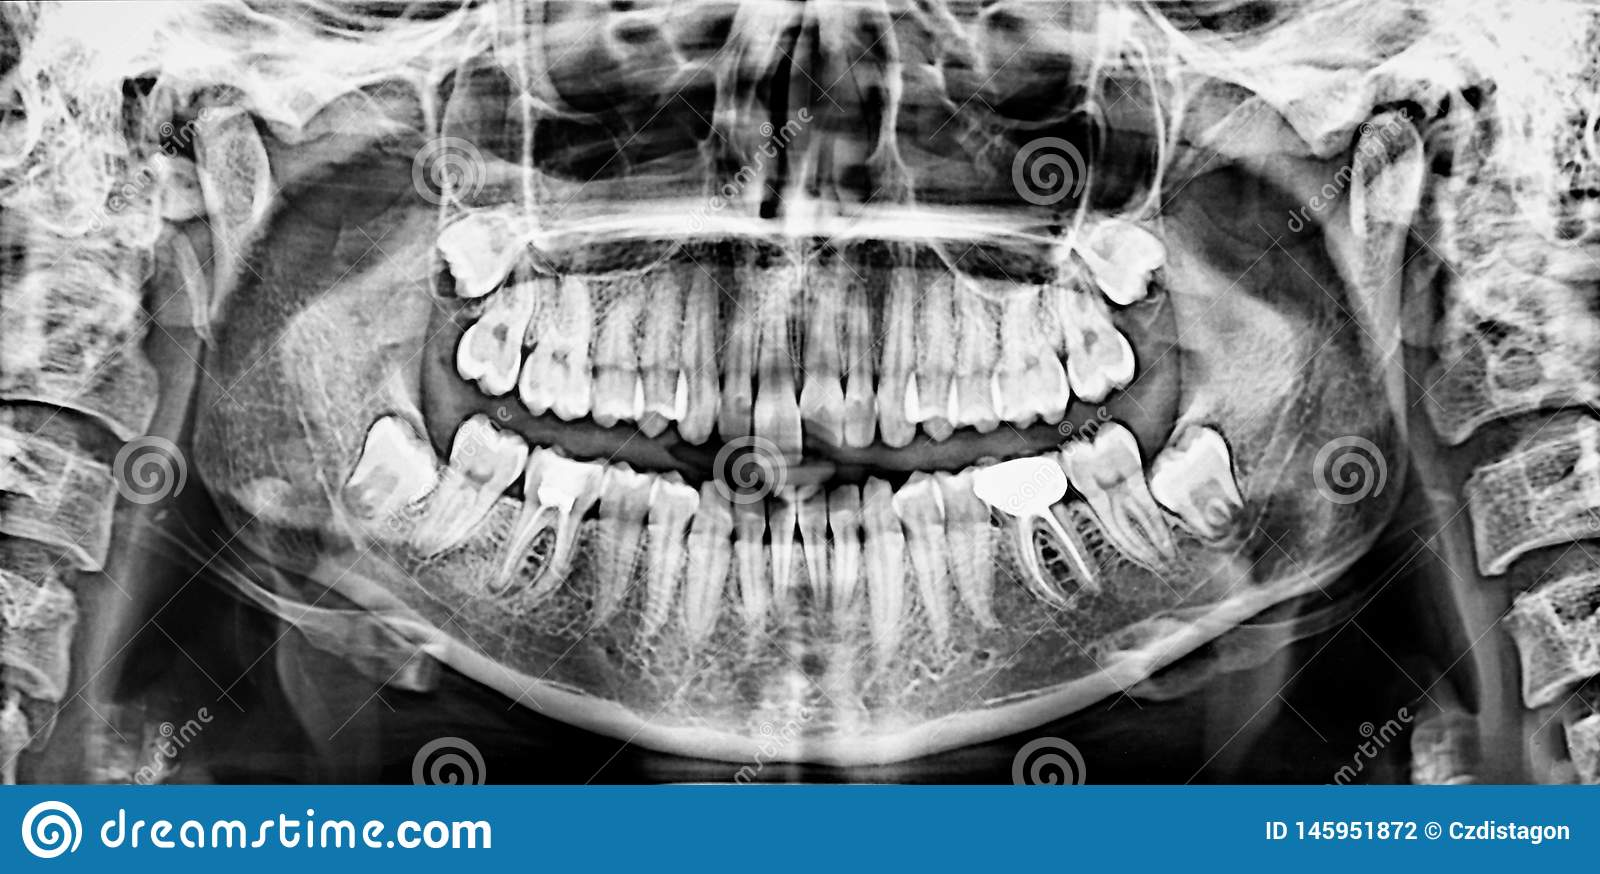canine: (677, 256, 719, 443), (866, 475, 912, 632), (879, 260, 912, 453), (691, 467, 725, 642)
incisor: (755, 281, 801, 469), (838, 265, 880, 449), (722, 272, 759, 459), (805, 277, 843, 451), (727, 478, 769, 628), (829, 482, 870, 619), (795, 488, 838, 615), (766, 483, 801, 620)
molar: (316, 391, 453, 533), (1062, 422, 1184, 561), (1066, 177, 1194, 301), (514, 425, 598, 606), (424, 182, 537, 294), (441, 407, 525, 556), (1153, 414, 1251, 542), (532, 264, 608, 422), (1033, 264, 1128, 391), (996, 265, 1066, 427), (454, 277, 530, 403)
premolar: (931, 448, 997, 640), (895, 465, 959, 667), (598, 251, 651, 432), (909, 248, 958, 441), (637, 259, 691, 433), (946, 253, 999, 429), (603, 457, 649, 633), (650, 471, 689, 648)
